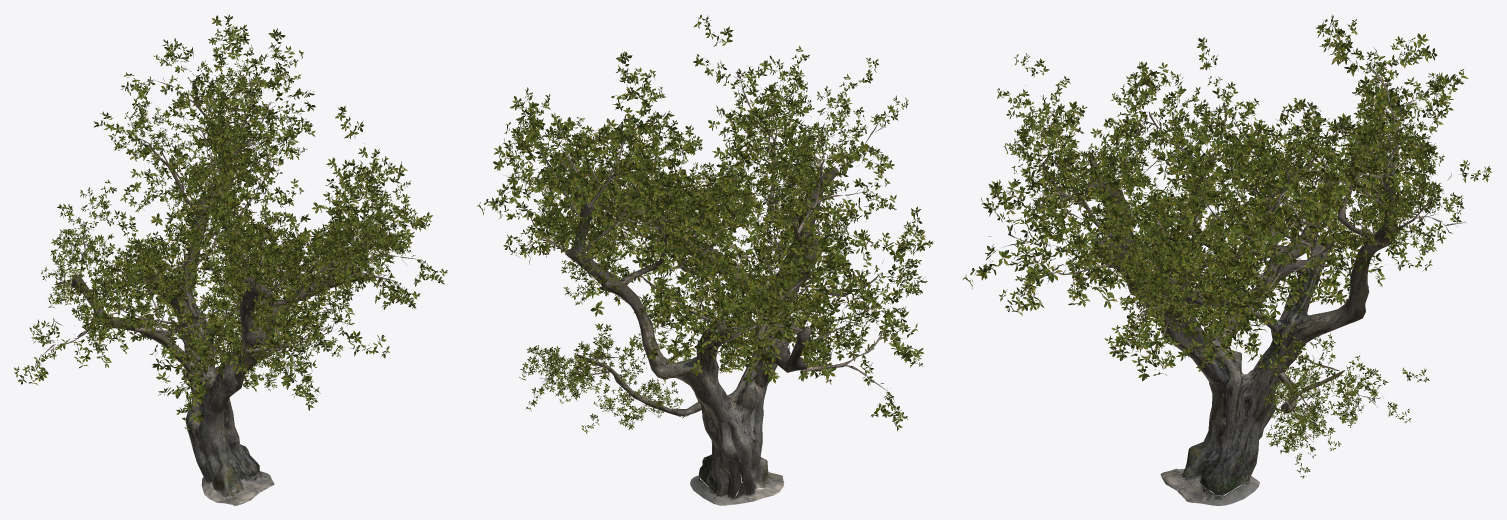
File: tree.glb
3 renders of one model, left to right at view 1: azimuth 30°, elevation 25°; view 2: azimuth 150°, elevation 25°; view 3: azimuth 270°, elevation 25°, orthographic. The views are drawn at different scales.
Parts seen in each view (by area): view 1: island_tree_01_LOD0; view 2: island_tree_01_LOD0; view 3: island_tree_01_LOD0.
Part boxes in pixels (left/top/right/bottom): island_tree_01_LOD0: left=14, top=14, right=447, bottom=505; island_tree_01_LOD0: left=477, top=15, right=933, bottom=505; island_tree_01_LOD0: left=962, top=14, right=1492, bottom=505.
Size of the model in its own units: 4.76 by 5.03 by 4.82.
Materials: 3 (3 with a texture image).
